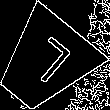L_SW: (16, 34, 73, 92)
